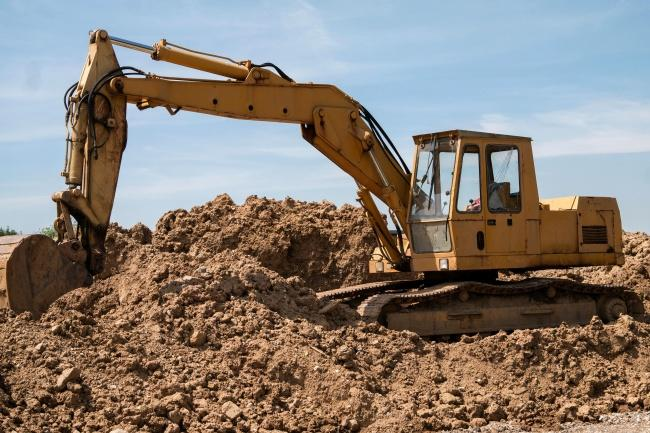excavator: (20, 40, 622, 317)
